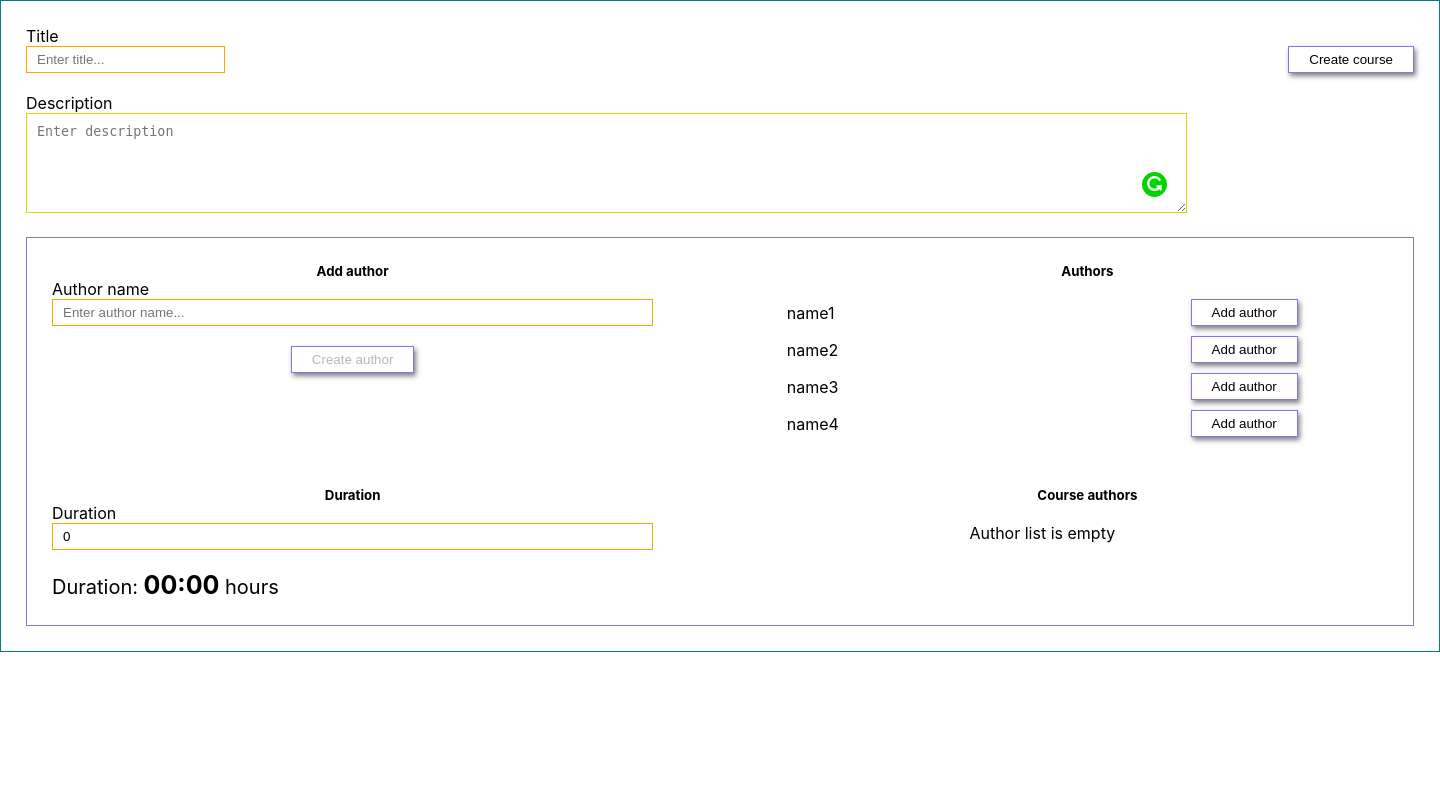
Test: CourseForm component › 'Add author' button click should add an author to course authors list
Click the button "Add author" in the row of "name1": [1244, 312] box 1191,299 -> 1298,326
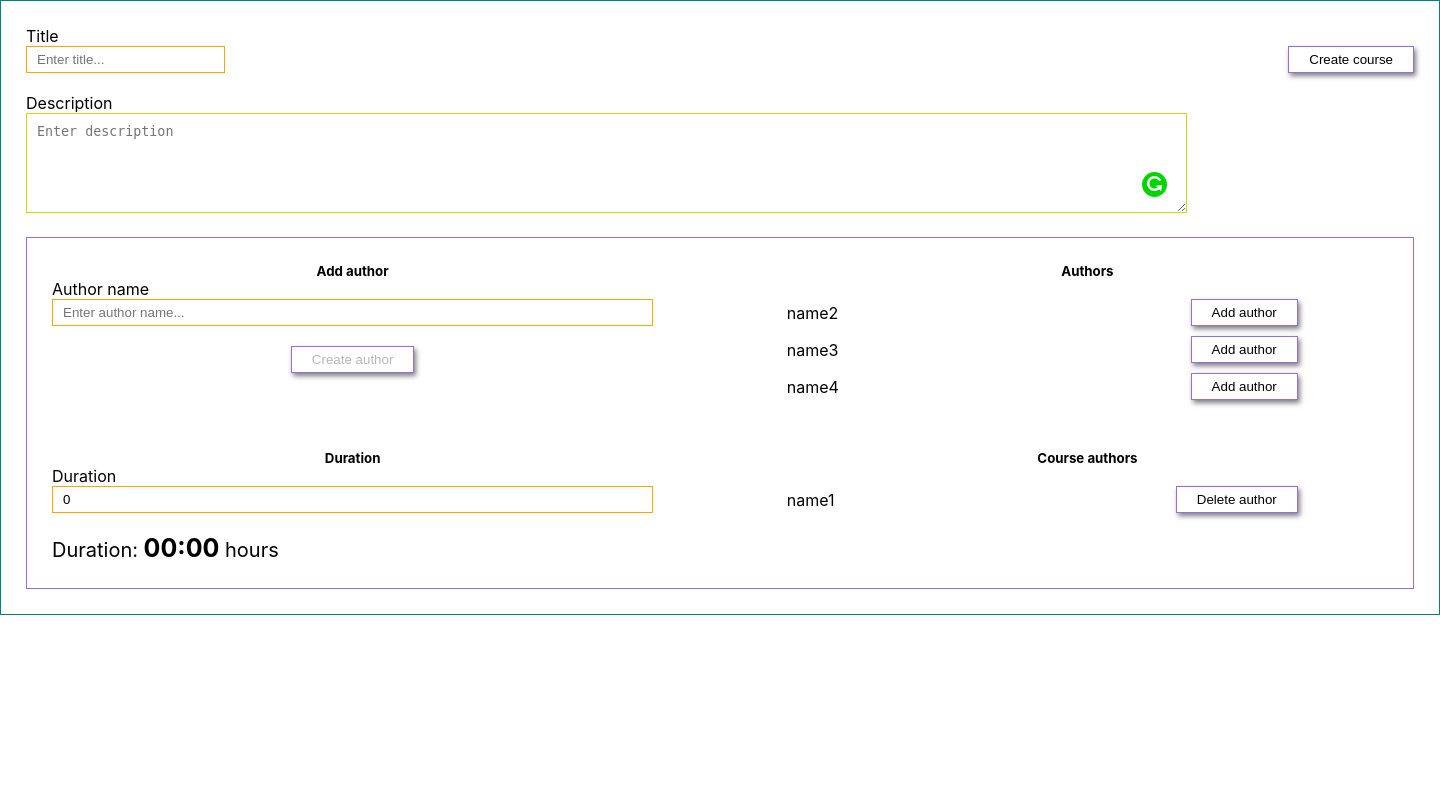
expect the number of list items with test id "COURSE_AUTHOR_TEST_ID" is 1: met, box 787,486 -> 1298,523
